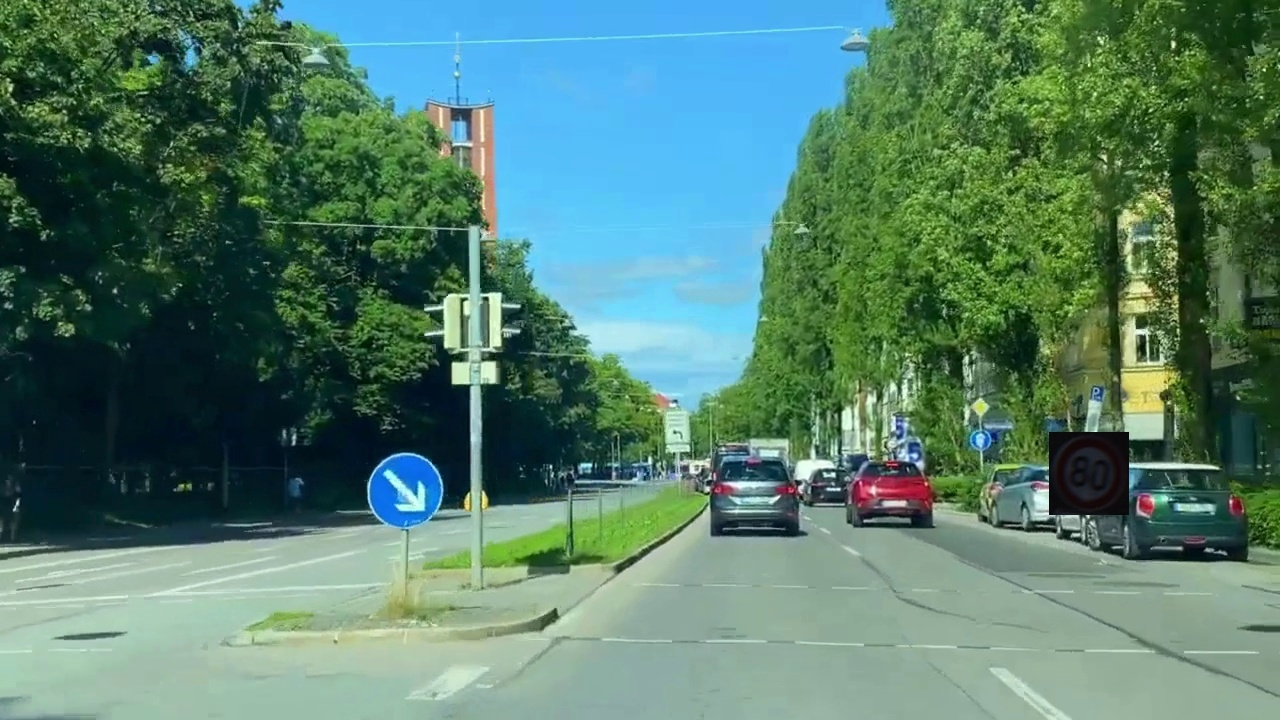Speed 80: (1049, 432, 1129, 515)
